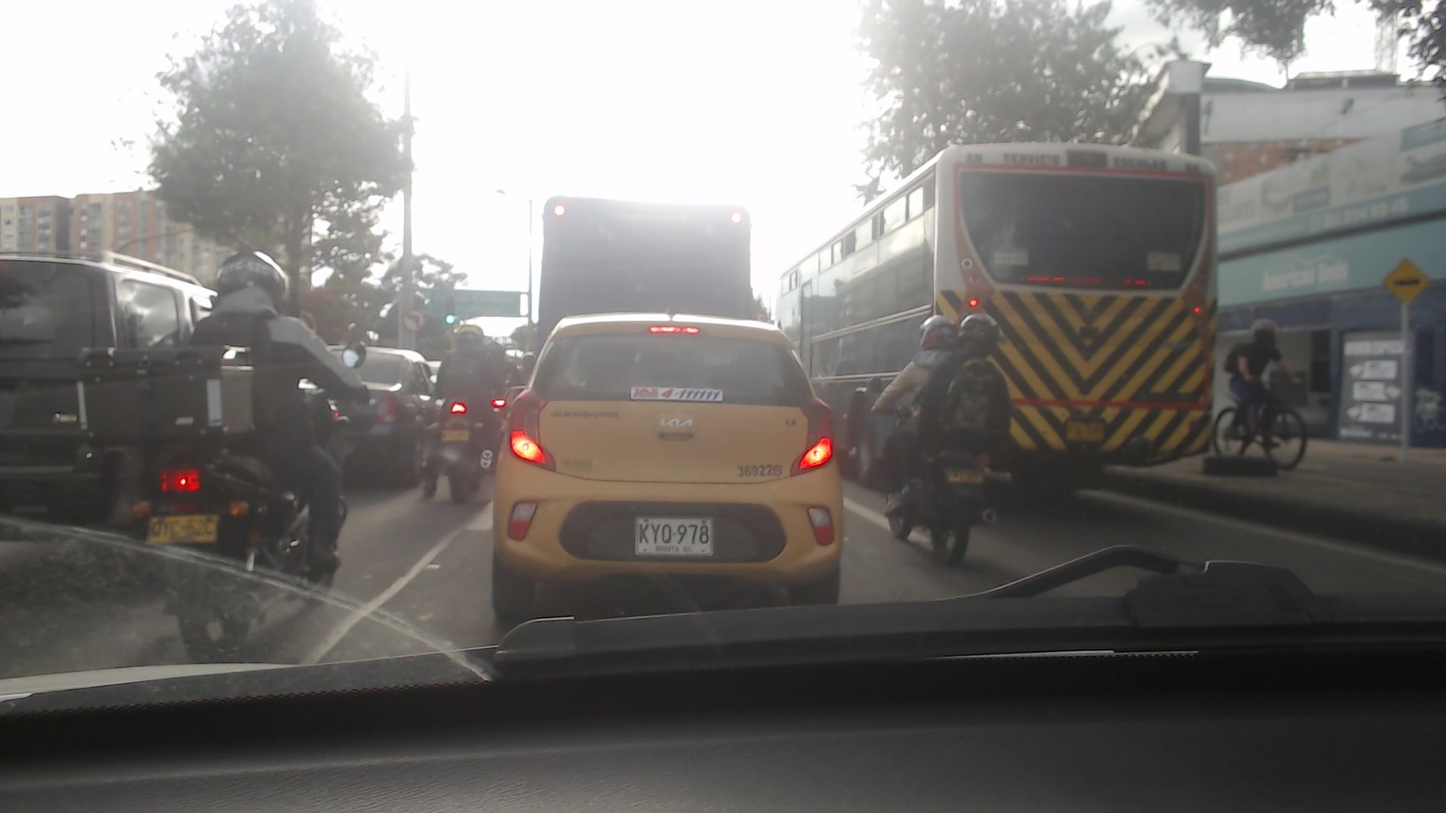bicycle: (1203, 388, 1314, 467)
bus: (783, 141, 1219, 496)
car: (492, 320, 840, 612), (0, 245, 219, 586), (323, 331, 437, 491)
motorcycle: (112, 442, 398, 660), (864, 447, 993, 565), (421, 386, 498, 501)
person: (196, 246, 348, 572), (877, 306, 957, 475), (944, 310, 1011, 487), (1225, 315, 1299, 437), (430, 317, 498, 444)
truck: (522, 176, 767, 360)
